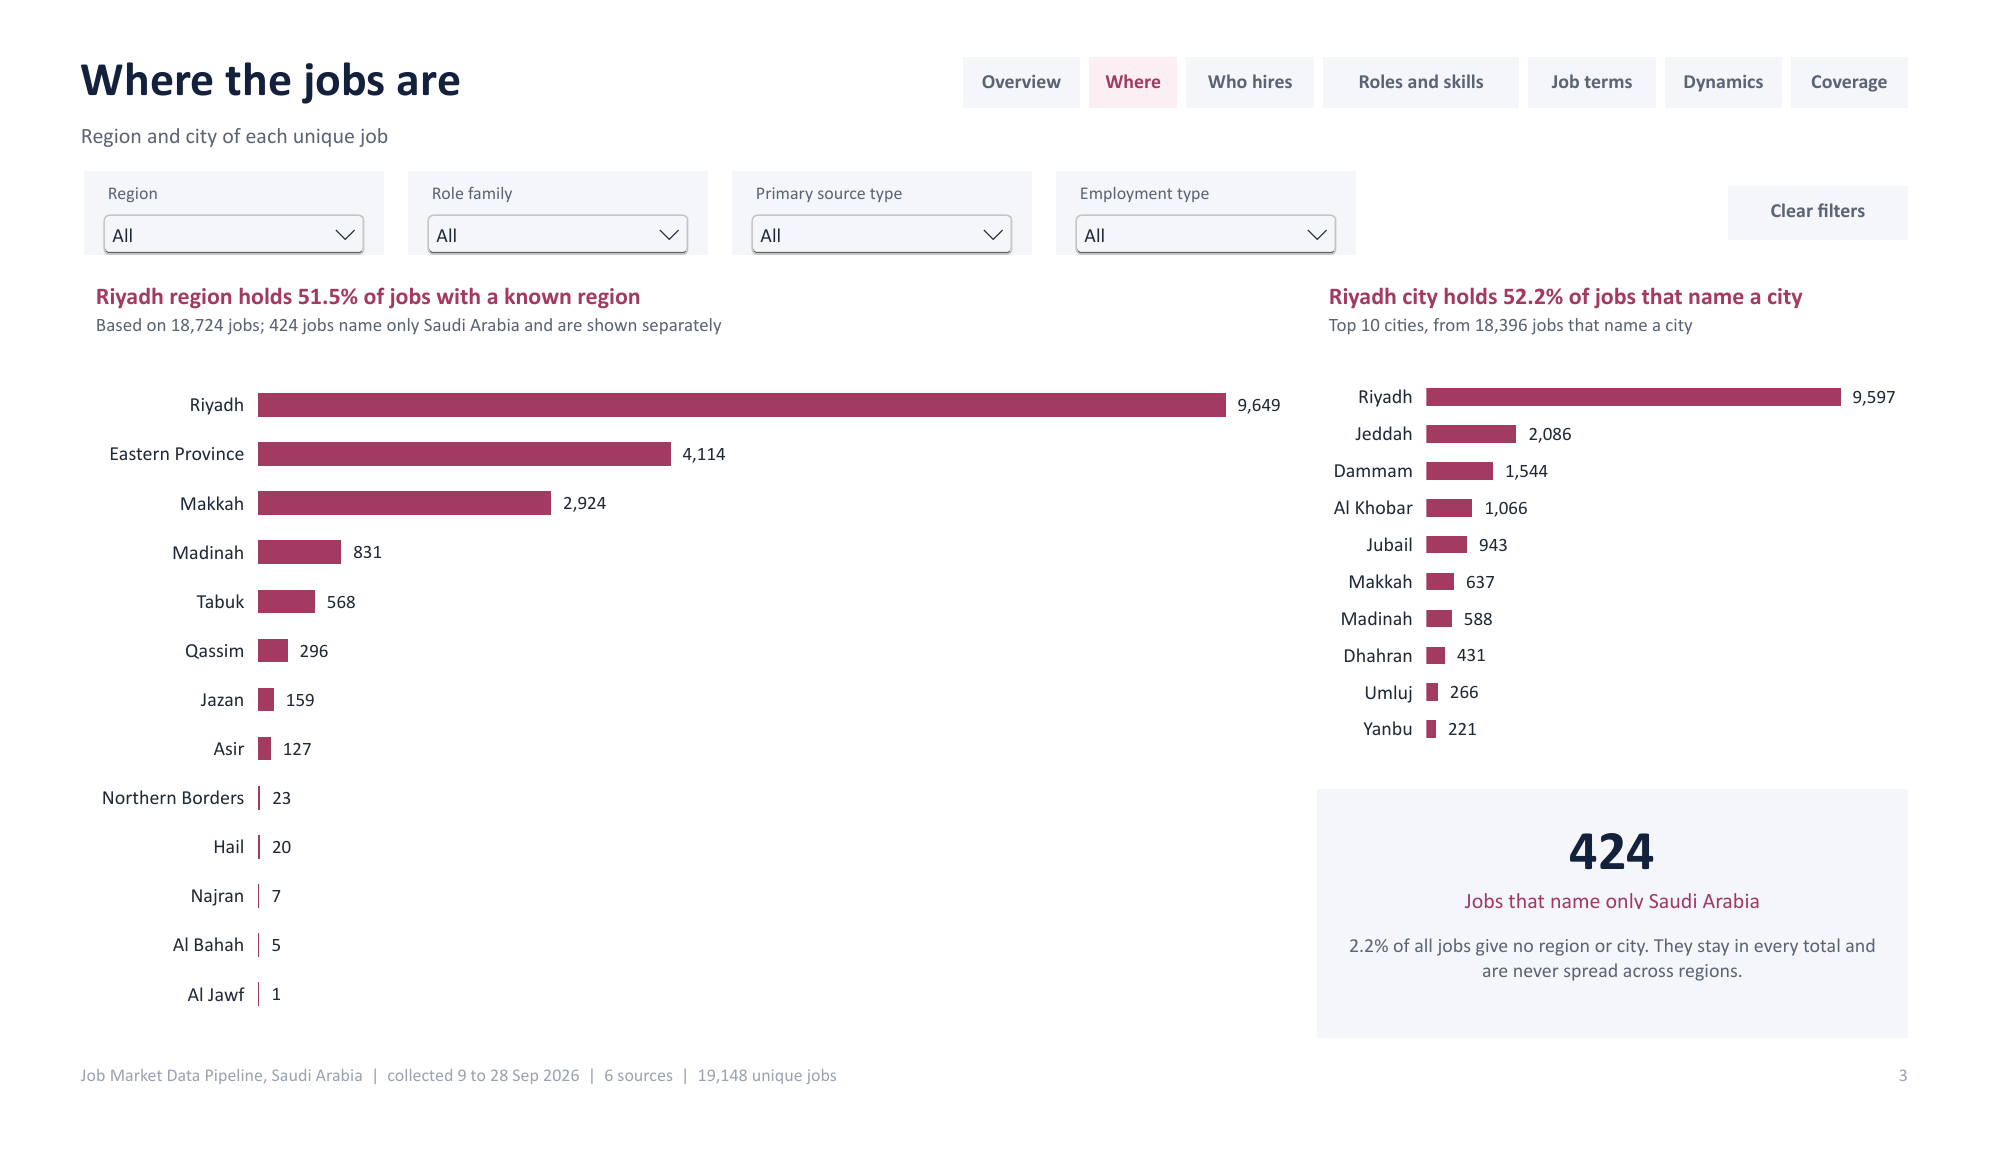

This screenshot's page, from the dashboard's own definition file:
{"tool":"powerbi","page":{"name":"Where","canvas":[1280,720],"ordinal":2},"visuals":[{"type":"textbox","box":[854,502,394,166],"z":500},{"type":"textbox","box":[22,2,660,60],"z":1000},{"type":"textbox","box":[22,50,760,36],"z":1100},{"type":"textbox","box":[618,14,78,34],"z":1200},{"type":"actionButton","box":[618,14,78,34],"z":1300},{"type":"textbox","box":[702,14,59,34],"z":1400},{"type":"textbox","box":[767,14,85,34],"z":1500},{"type":"actionButton","box":[767,14,85,34],"z":1600},{"type":"textbox","box":[858,14,131,34],"z":1700},{"type":"actionButton","box":[858,14,131,34],"z":1800},{"type":"textbox","box":[995,14,85,34],"z":1900},{"type":"actionButton","box":[995,14,85,34],"z":2000},{"type":"textbox","box":[1086,14,78,34],"z":2100},{"type":"actionButton","box":[1086,14,78,34],"z":2200},{"type":"textbox","box":[1170,14,78,34],"z":2300},{"type":"actionButton","box":[1170,14,78,34],"z":2400},{"type":"slicer","fields":{"Values":["DIM_LOCATION.REGION"]},"box":[32,90,200,56],"z":2500},{"type":"slicer","fields":{"Values":["DIM_ROLE.ROLE_FAMILY"]},"box":[248,90,200,56],"z":2600},{"type":"slicer","fields":{"Values":["DIM_SOURCE.SOURCE_TYPE"]},"box":[464,90,200,56],"z":2700},{"type":"slicer","fields":{"Values":["DIM_JOB_ATTRIBUTES.EMPLOYMENT_TYPE"]},"box":[680,90,200,56],"z":2800},{"type":"textbox","box":[1128,100,120,36],"z":2900},{"type":"actionButton","box":[1128,100,120,36],"z":3000},{"type":"textbox","box":[22,678,940,38],"z":3100},{"type":"textbox","box":[1160,678,96,38],"z":3200},{"type":"clusteredBarChart","fields":{"Category":["DIM_LOCATION.REGION"],"Y":["_Measures.Jobs Known Region"]},"box":[32,156,806,512],"z":3300},{"type":"clusteredBarChart","title":"Riyadh city holds 52.2% of jobs that name a city","fields":{"Category":["DIM_LOCATION.CITY"],"Y":["_Measures.Jobs"]},"box":[854,156,394,330],"z":3400},{"type":"card","fields":{"Values":["_Measures.No Region Given Jobs"]},"box":[864,510,374,80],"z":3600},{"type":"textbox","box":[866,590,370,70],"z":3700}]}

Visuals, with their boxes in screenshot pixels (x1, y1, x2, y2), scaled from the page's 1280x720 canvas onto the 1992x1152 screenshot:
textbox: (left=1329, top=803, right=1942, bottom=1069)
textbox: (left=34, top=3, right=1061, bottom=99)
textbox: (left=34, top=80, right=1217, bottom=138)
textbox: (left=962, top=22, right=1083, bottom=77)
actionButton: (left=962, top=22, right=1083, bottom=77)
textbox: (left=1092, top=22, right=1184, bottom=77)
textbox: (left=1194, top=22, right=1326, bottom=77)
actionButton: (left=1194, top=22, right=1326, bottom=77)
textbox: (left=1335, top=22, right=1539, bottom=77)
actionButton: (left=1335, top=22, right=1539, bottom=77)
textbox: (left=1548, top=22, right=1681, bottom=77)
actionButton: (left=1548, top=22, right=1681, bottom=77)
textbox: (left=1690, top=22, right=1811, bottom=77)
actionButton: (left=1690, top=22, right=1811, bottom=77)
textbox: (left=1821, top=22, right=1942, bottom=77)
actionButton: (left=1821, top=22, right=1942, bottom=77)
slicer - DIM_LOCATION.REGION: (left=50, top=144, right=361, bottom=234)
slicer - DIM_ROLE.ROLE_FAMILY: (left=386, top=144, right=697, bottom=234)
slicer - DIM_SOURCE.SOURCE_TYPE: (left=722, top=144, right=1033, bottom=234)
slicer - DIM_JOB_ATTRIBUTES.EMPLOYMENT_TYPE: (left=1058, top=144, right=1370, bottom=234)
textbox: (left=1755, top=160, right=1942, bottom=218)
actionButton: (left=1755, top=160, right=1942, bottom=218)
textbox: (left=34, top=1085, right=1497, bottom=1146)
textbox: (left=1805, top=1085, right=1955, bottom=1146)
clusteredBarChart - DIM_LOCATION.REGION x _Measures.Jobs Known Region: (left=50, top=250, right=1304, bottom=1069)
"Riyadh city holds 52.2% of jobs that name a city" clusteredBarChart: (left=1329, top=250, right=1942, bottom=778)
card - _Measures.No Region Given Jobs: (left=1345, top=816, right=1927, bottom=944)
textbox: (left=1348, top=944, right=1924, bottom=1056)
